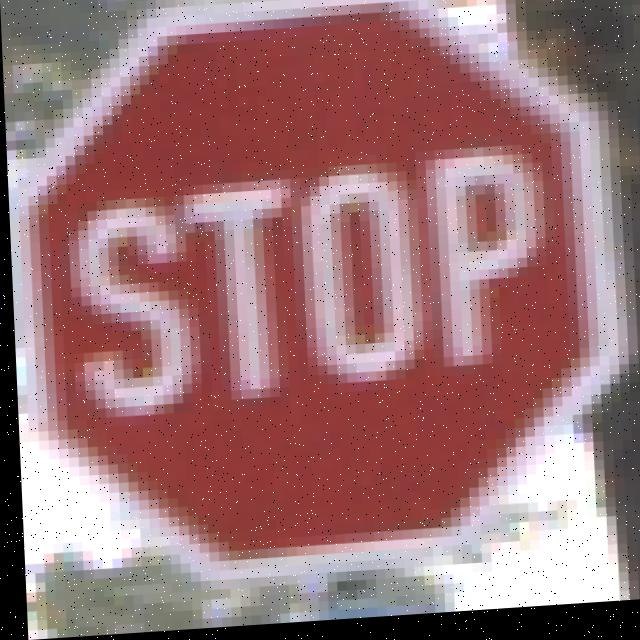stop: (3, 0, 632, 589)
